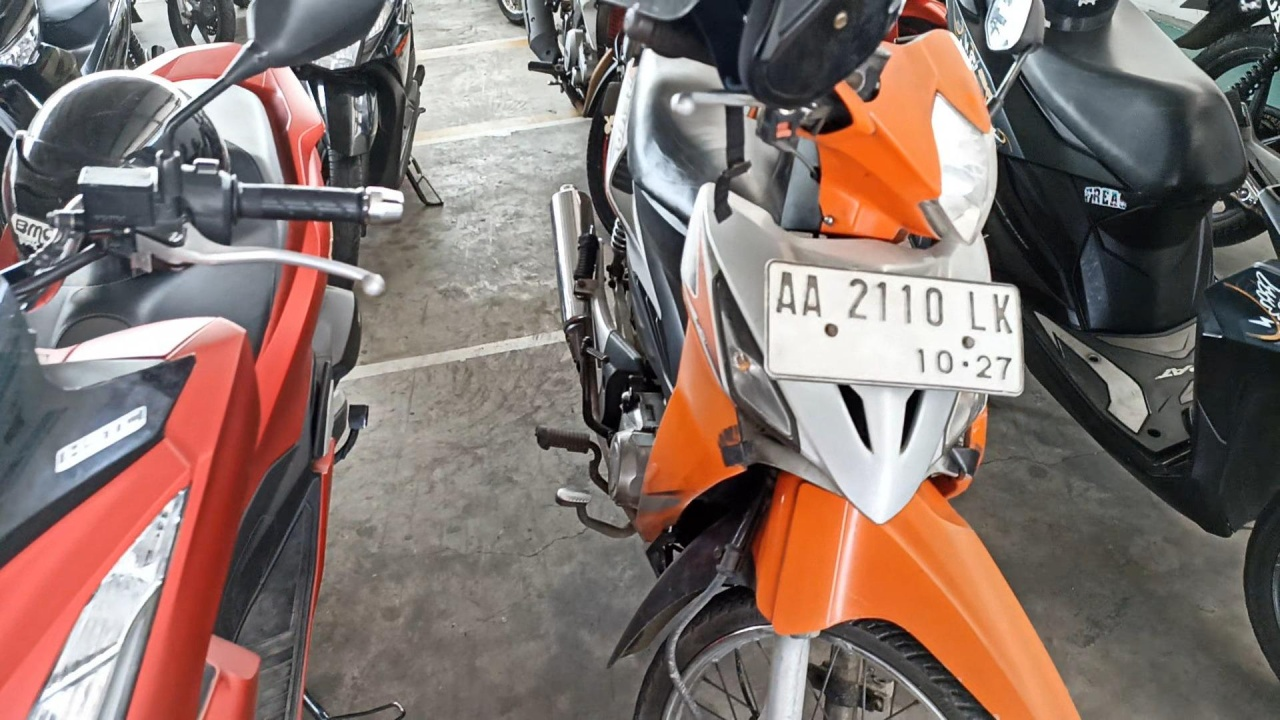plate: (766, 261, 1024, 398)
